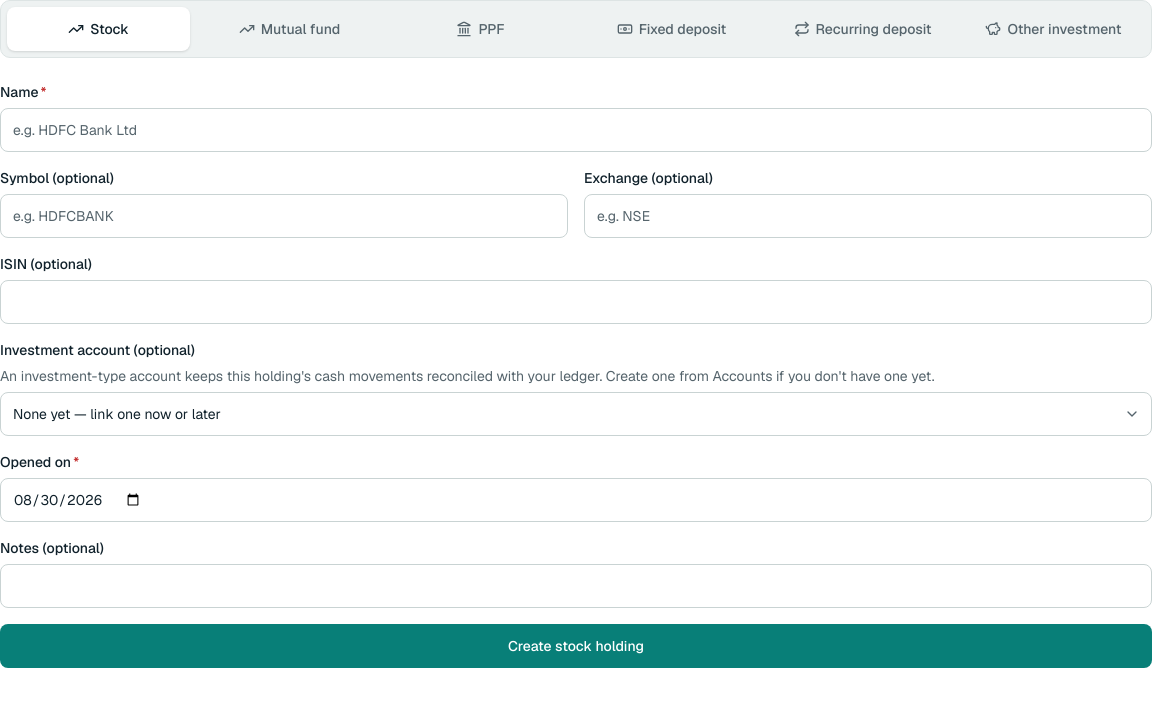
Scenario: NewInvestmentForm › switches to the recurring deposit form, showing installment and frequency fields
The image size is (1152, 720).
Click the radio button labelled "Recurring deposit" at coordinates (862, 29), box x1=771 y1=7 x2=954 y2=51
(page scrolled)
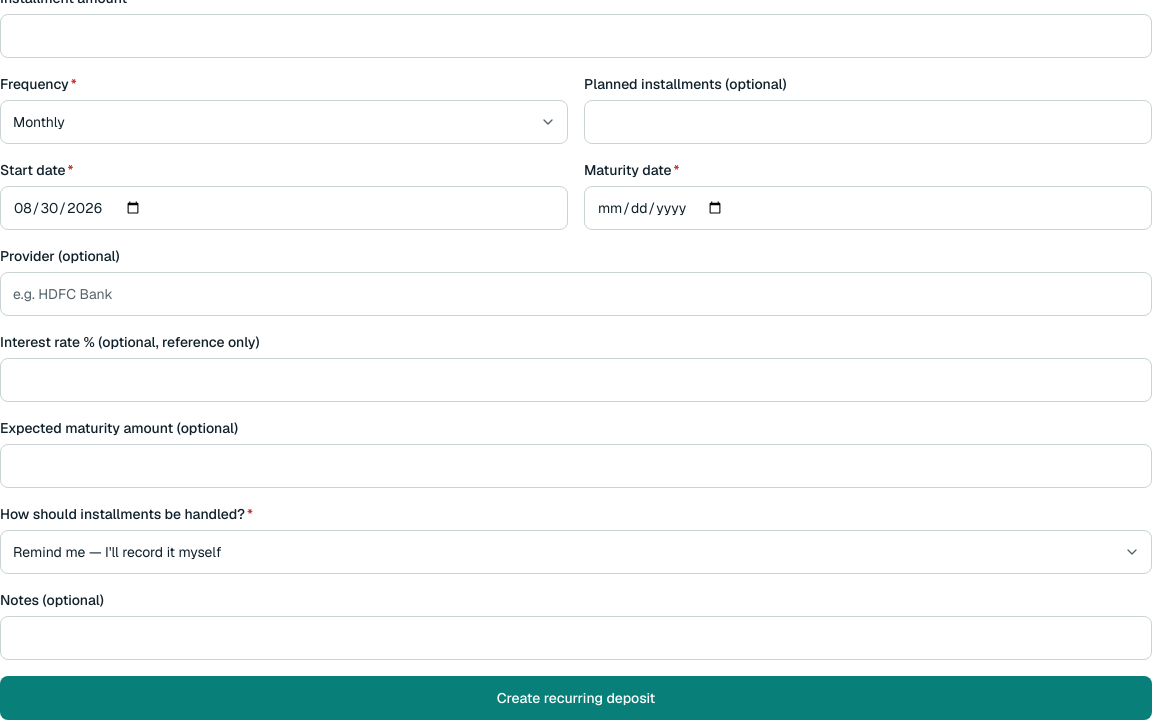
Expected: the button "Create recurring deposit" is shown, x1=0 y1=676 x2=1151 y2=719
Expected: the field labelled "Installment amount" is shown, x1=0 y1=14 x2=1151 y2=58
Expected: the dropdown labelled "Frequency" is shown, x1=0 y1=100 x2=568 y2=144
